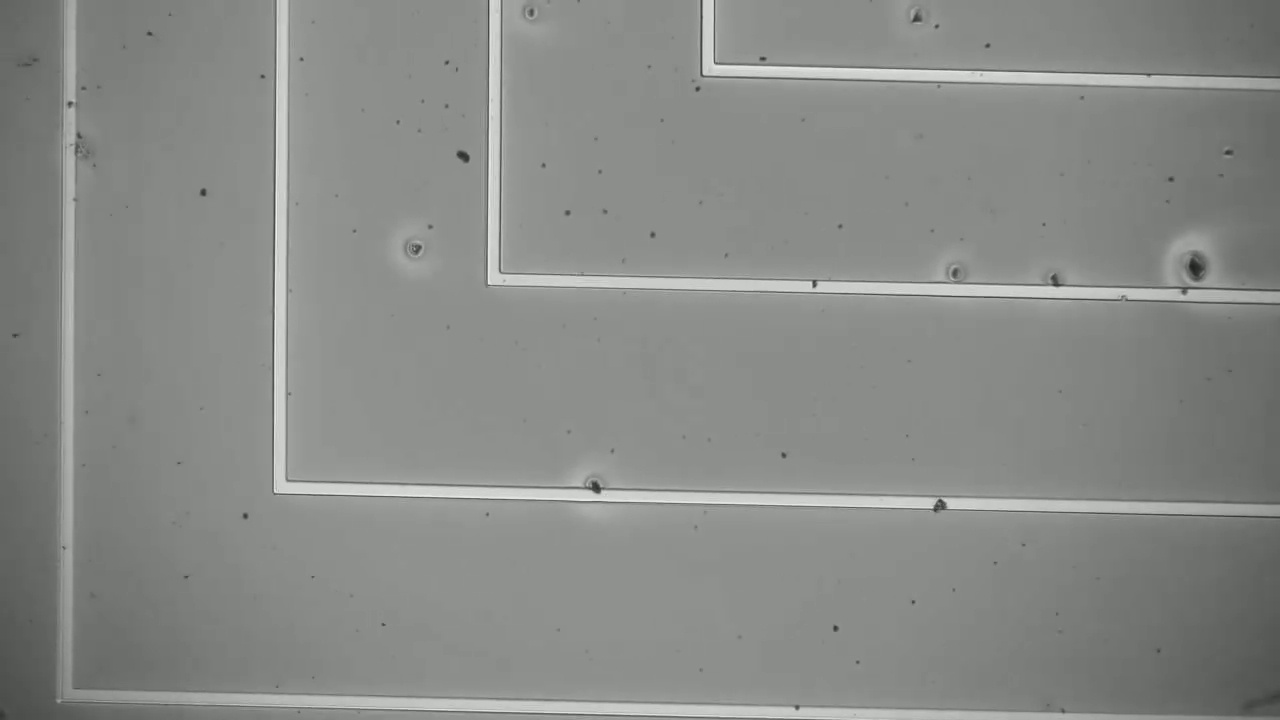stains_enbedded: (578, 471, 605, 507), (928, 488, 954, 520), (1117, 294, 1130, 305)
